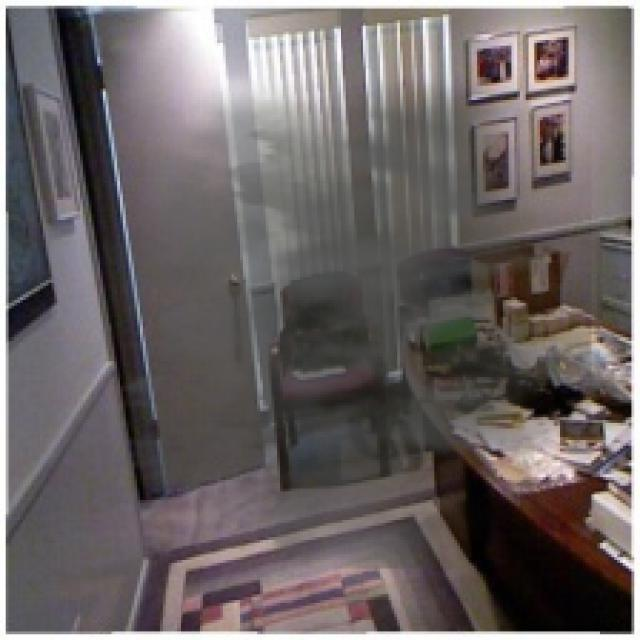Smoke: (59, 54, 592, 569)
